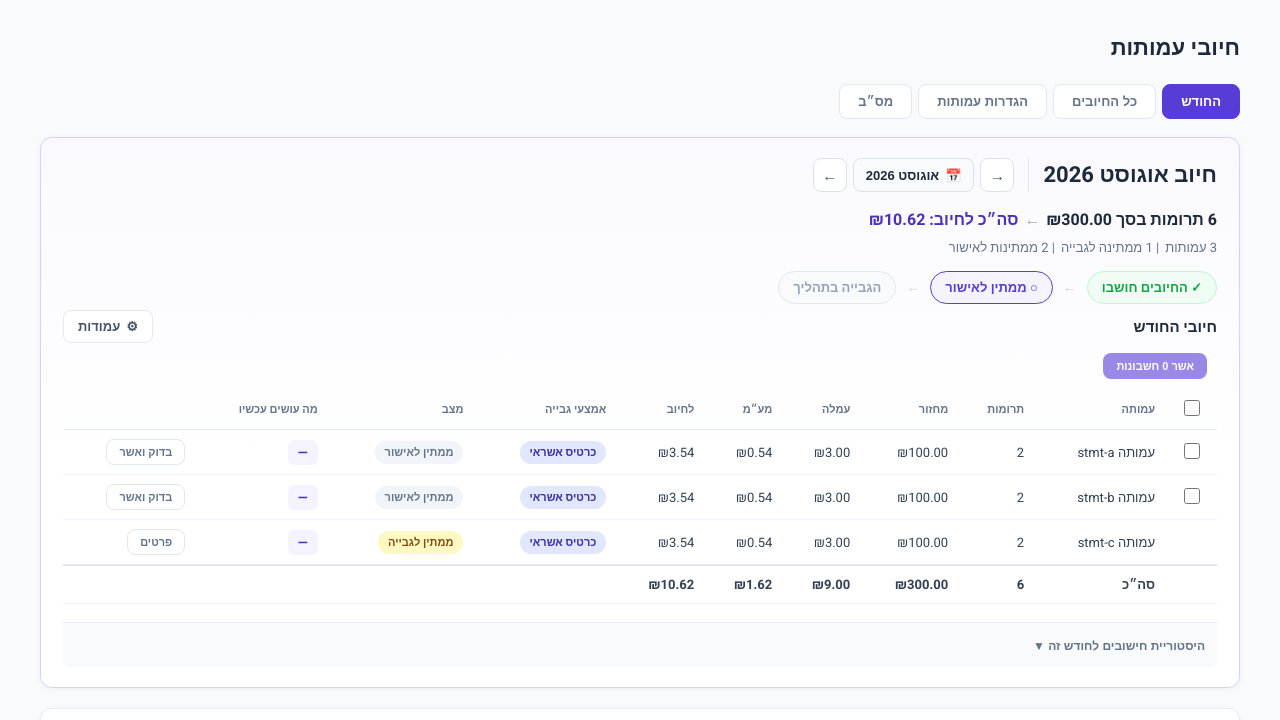
Test: PlatformBillingOpsPageComponent - bulk approval › select-all selects every eligible draft Statement and the button reflects the count, e.g. "אשר 2 חשבונות"
Click the checkbox named "בחר את כל החשבונות הממתינים לאישור".
click(1192, 408)  # box [1184,400,1200,416]
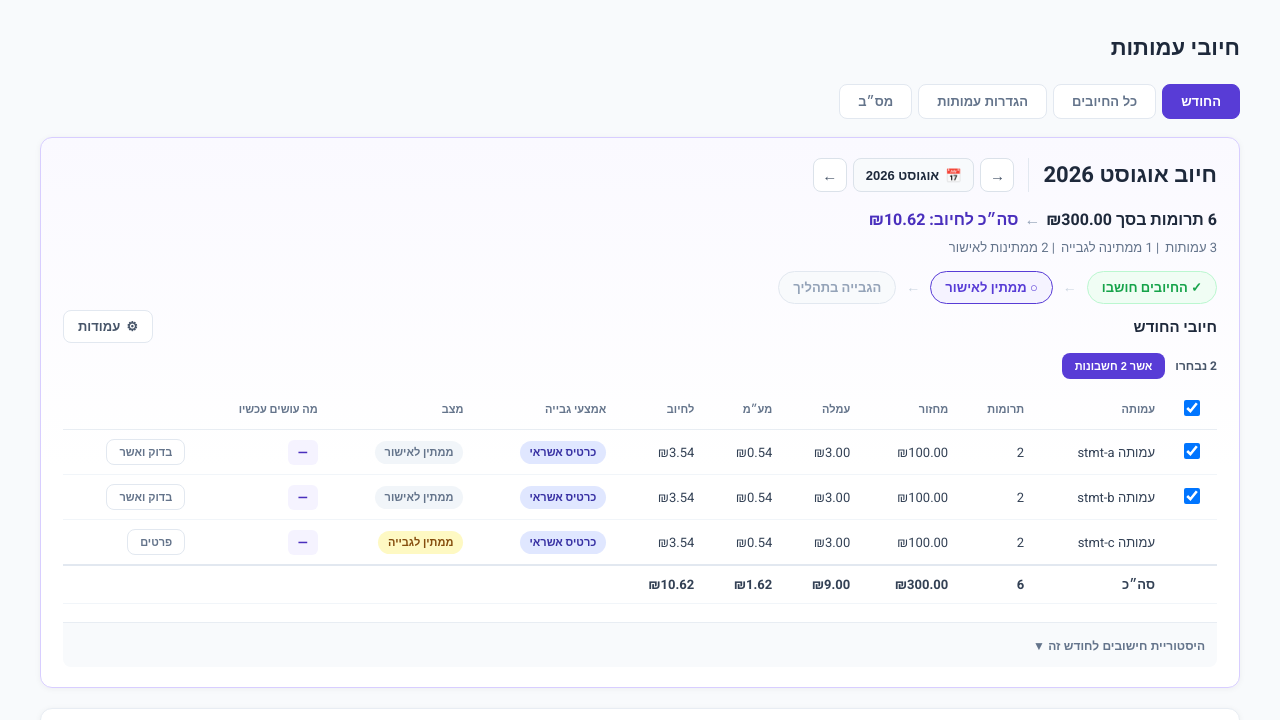
Now the button "אשר 2 חשבונות" is shown, box [1062,353,1165,379]
